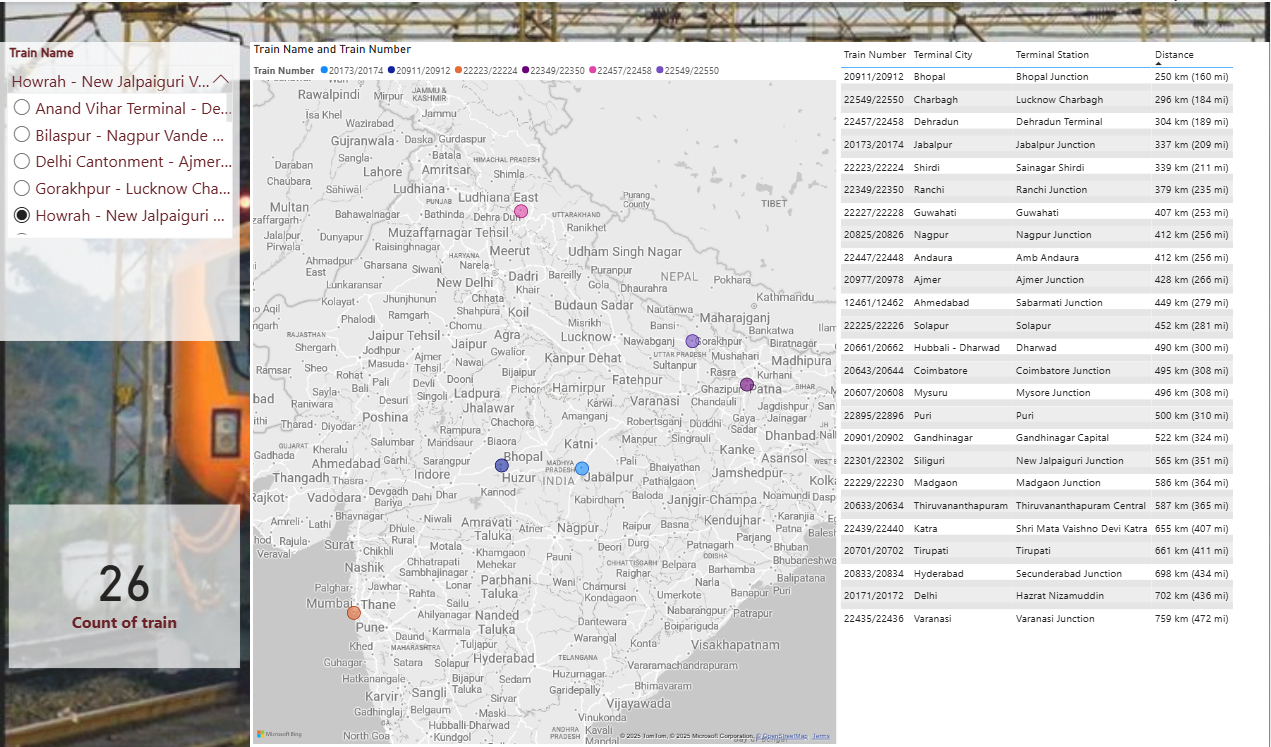

This screenshot's page, from the dashboard's own definition file:
{"tool":"powerbi","page":{"name":"Map","canvas":[1800,1058],"ordinal":1},"visuals":[{"type":"slicer","fields":{"Values":["Stores Dummy.Train Name"]},"box":[0,56.7,340.4,423.7],"z":0},{"type":"map","fields":{"Category":["Copy of Vande Bharat Jan- 2024 - Vande Bharat.Train Name"],"Series":["Copy of Vande Bharat Jan- 2024 - Vande Bharat.Train Number"]},"box":[353.8,56.8,852.5,1001],"z":1000},{"type":"tableEx","fields":{"Values":["Copy of Vande Bharat Jan- 2024 - Vande Bharat.Train Number","Copy of Vande Bharat Jan- 2024 - Vande Bharat.Terminal City","Copy of Vande Bharat Jan- 2024 - Vande Bharat.Terminal Station","Copy of Vande Bharat Jan- 2024 - Vande Bharat.Distance"]},"box":[1186.2,56.8,614.2,1001],"z":2000},{"type":"card","fields":{"Values":["Copy of Vande Bharat Jan- 2024 - Vande Bharat.Count of train"]},"box":[12.4,712.7,328,232.2],"z":3000}]}

Visuals, with their boxes in screenshot pixels (x1, y1, x2, y2), scaled from the page's 1800x1058 canvas onto the 1271x747 screenshot:
slicer - Stores Dummy.Train Name: crop(0, 40, 240, 339)
map - Copy of Vande Bharat Jan- 2024 - Vande Bharat.Train Name x Copy of Vande Bharat Jan- 2024 - Vande Bharat.Train Number: crop(250, 40, 852, 746)
tableEx - Copy of Vande Bharat Jan- 2024 - Vande Bharat.Train Number x Copy of Vande Bharat Jan- 2024 - Vande Bharat.Terminal City: crop(838, 40, 1270, 746)
card - Copy of Vande Bharat Jan- 2024 - Vande Bharat.Count of train: crop(9, 503, 240, 667)
